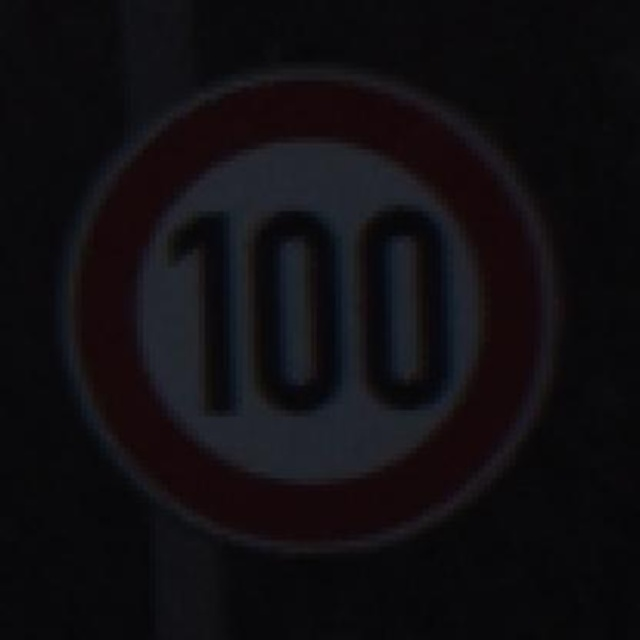Tốc độ tối đa cho phép 100km/h: (67, 70, 557, 551)
